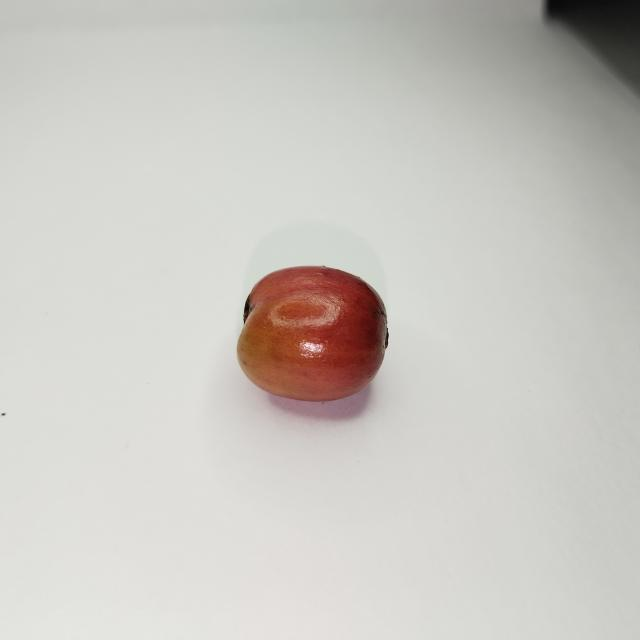Sano: (237, 266, 388, 401)
